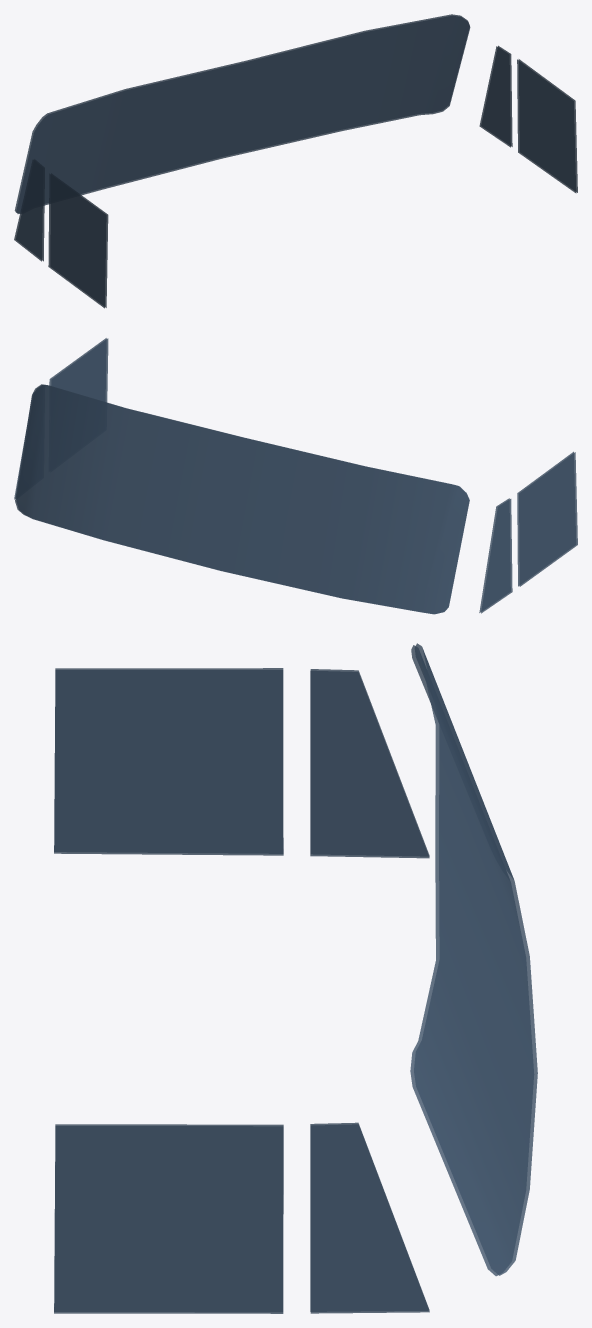
The model's file is Glass KAMAZ Arctica.fbx.
3 renders of one model, top to bottom at view 1: azimuth 30°, elevation 25°; view 2: azimuth 150°, elevation 25°; view 3: azimuth 270°, elevation 25°, orthographic. The views are drawn at different scales.
Visible parts, largest first — view 1: Cabin_low.003; view 2: Cabin_low.003; view 3: Cabin_low.003.
Part boxes in pixels (box(x1,y1,x2,y2)): Cabin_low.003: box(14, 14, 577, 308); Cabin_low.003: box(14, 338, 577, 614); Cabin_low.003: box(54, 643, 537, 1313).
Size of the model in its own units: 279 by 68.47 by 124.
